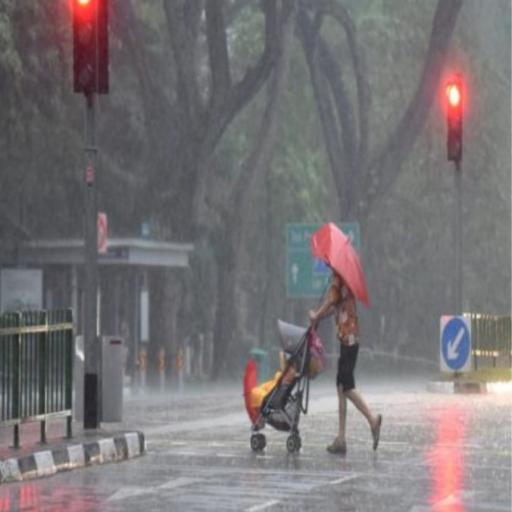construction_fence: (0, 432, 145, 483), (427, 381, 511, 393)
laptop: (310, 273, 381, 454)
steps_down: (248, 321, 324, 452)
table: (73, 0, 108, 95), (446, 74, 464, 163)
